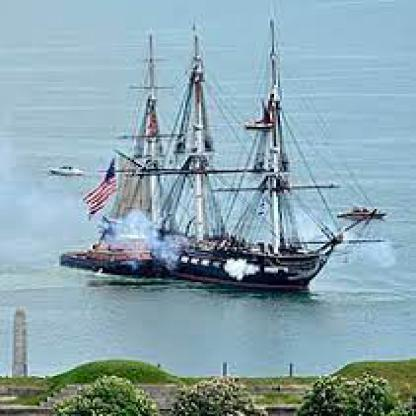Constitution: (61, 9, 383, 322)
